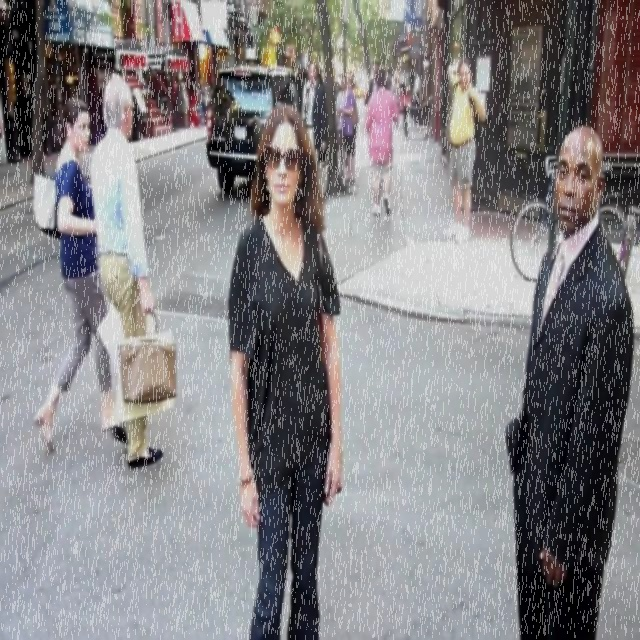pessoa: (221, 93, 349, 639), (504, 120, 636, 639), (34, 98, 124, 454), (88, 73, 166, 473), (443, 56, 487, 245), (362, 65, 400, 222), (302, 60, 328, 166), (336, 74, 359, 188), (334, 76, 350, 182), (303, 70, 320, 164), (410, 73, 422, 124), (368, 60, 381, 100), (198, 76, 208, 126), (382, 64, 392, 112), (413, 66, 421, 124), (392, 75, 402, 102)
